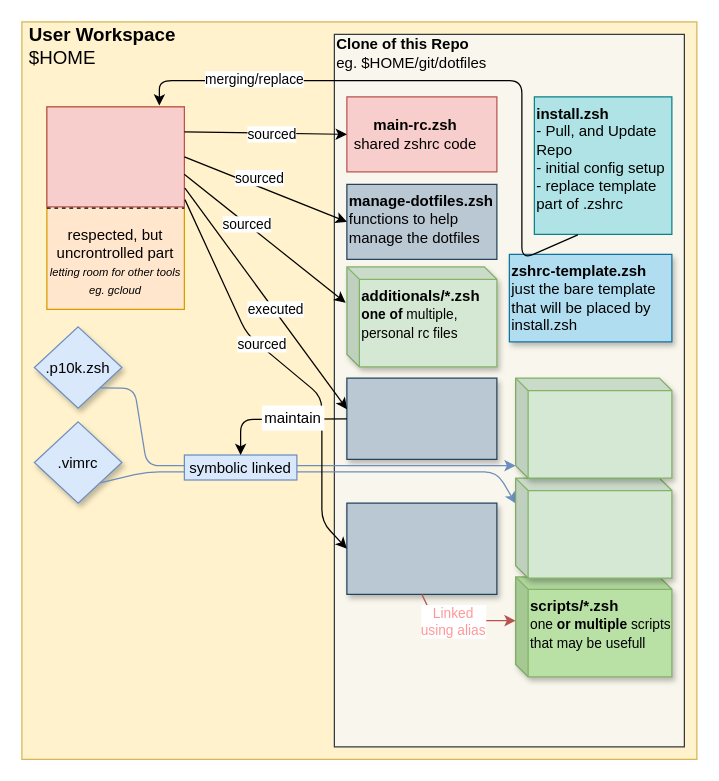
Image size: 719x781. Some labels were removed from this diagram. The shapes that lost their labels are listed below. From the top down, each one's centre as x and y in pixels, then its label:
(x=115, y=156): .zshrc templated part with config the user can cange
(x=422, y=420): link-dotfiles.zsh link all the files in $HOME that should not be sourced
(x=594, y=429): p10k/*.zsh one of multiple, personal, p10k-style files
(x=594, y=529): vimrc/*.vimrc one of multiple, personal vimrc files
(x=422, y=550): script-loader.zsh maintain commands for scripts in shell based of config
